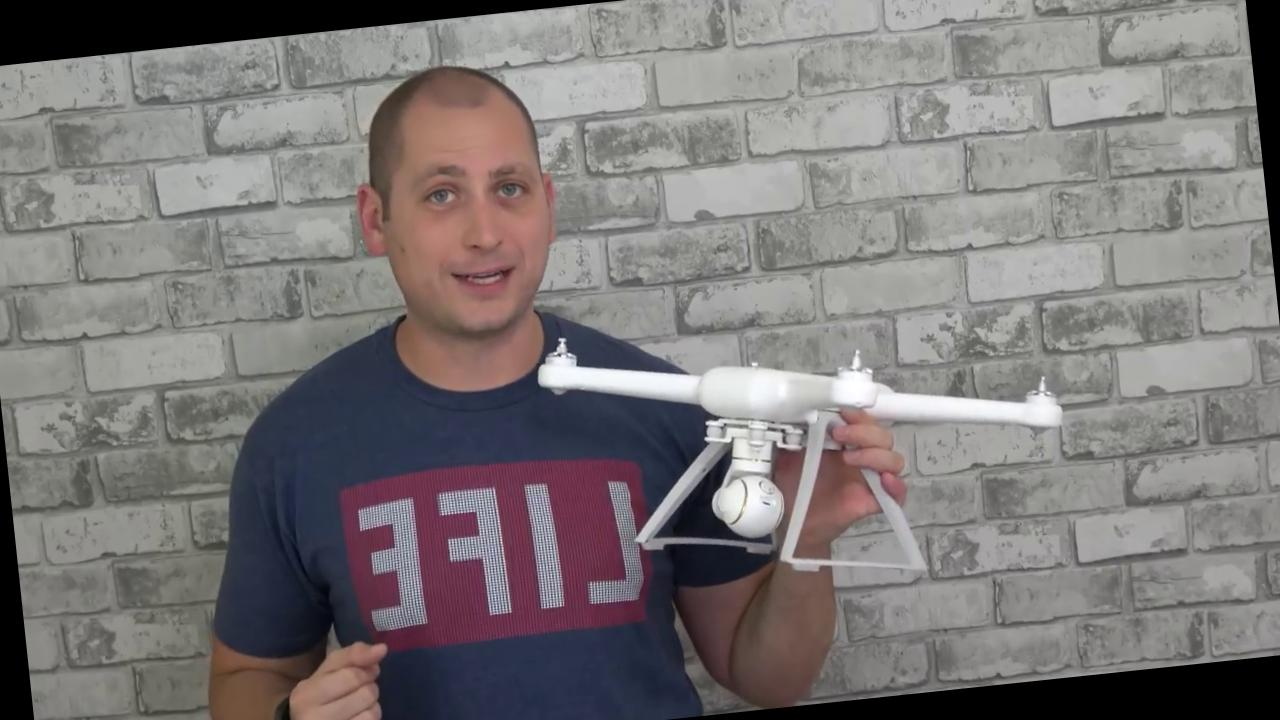drone: (530, 284, 1072, 491)
